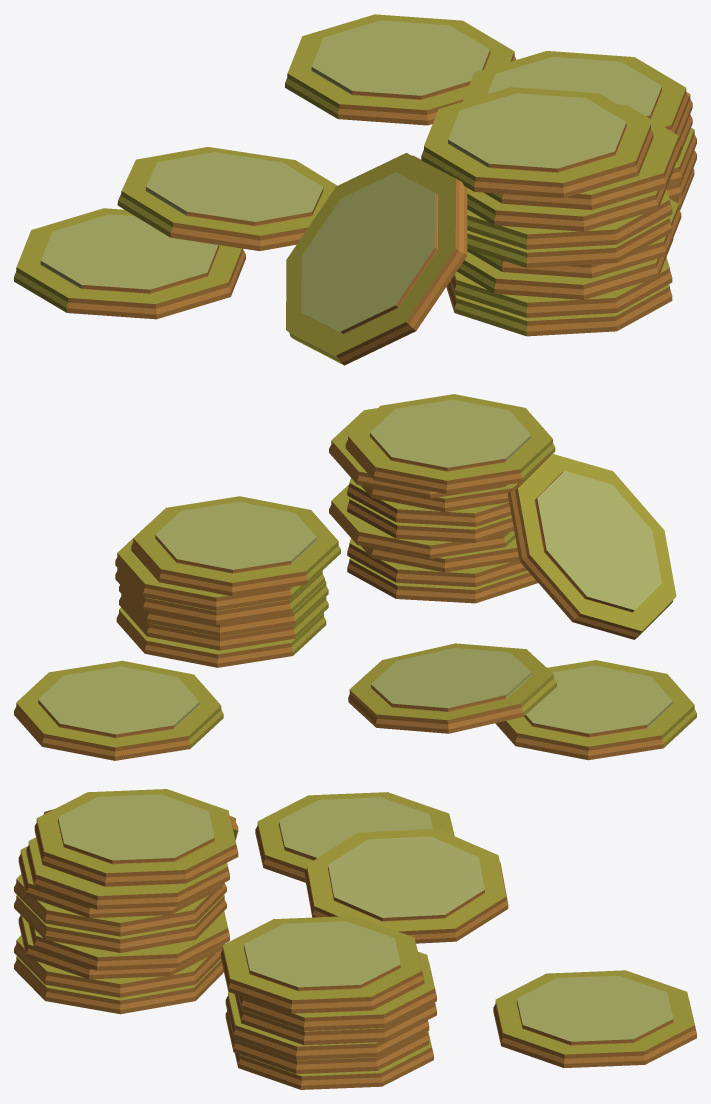
The model's file is coin.fbx.
3 renders of one model, top to bottom at view 1: azimuth 30°, elevation 25°; view 2: azimuth 150°, elevation 25°; view 3: azimuth 270°, elevation 25°, orthographic. The views are drawn at different scales.
Parts seen in each view (by area): view 1: coin_piles, coin_top.001, coin_top, coin_top.004, coin_top.005, coin_top.006, coin_top.003, Cylinder.004; view 2: coin_top.001, coin_piles, coin_top.003, coin_top.005, coin_top, coin_top.006, coin_top.004, Cylinder.001, Cylinder.006, Cylinder.005, Cylinder.002, Cylinder.004; view 3: coin_piles, coin_top.006, coin_top.003, coin_top, coin_top.005, coin_top.004, Cylinder.006, Cylinder.004, Cylinder.001, Cylinder.002, Cylinder.005.
Boxes of the visible parts, <box> form: coin_piles: <box>446,104,681,336</box>; coin_top.001: <box>286,153,467,365</box>; coin_top: <box>421,87,653,198</box>; coin_top.004: <box>14,208,245,319</box>; coin_top.005: <box>285,14,516,125</box>; coin_top.006: <box>117,147,337,251</box>; coin_top.003: <box>462,51,688,133</box>; Cylinder.004: <box>668,127,696,185</box>; coin_top.001: <box>507,454,676,639</box>; coin_piles: <box>329,408,537,603</box>; coin_top.003: <box>131,496,340,596</box>; coin_top.005: <box>14,660,223,760</box>; coin_top: <box>345,394,555,494</box>; coin_top.006: <box>348,643,557,733</box>; coin_top.004: <box>495,660,696,760</box>; Cylinder.001: <box>116,607,326,667</box>; Cylinder.006: <box>115,525,306,610</box>; Cylinder.005: <box>115,568,324,624</box>; Cylinder.002: <box>119,594,328,650</box>; Cylinder.004: <box>119,580,328,636</box>; coin_piles: <box>14,837,229,1014</box>; coin_top.006: <box>304,828,508,943</box>; coin_top.003: <box>220,916,424,1013</box>; coin_top: <box>34,789,238,886</box>; coin_top.005: <box>493,970,696,1067</box>; coin_top.004: <box>255,792,454,882</box>; Cylinder.006: <box>238,951,436,1031</box>; Cylinder.004: <box>225,992,429,1060</box>; Cylinder.001: <box>234,1031,433,1089</box>; Cylinder.002: <box>225,1011,429,1073</box>; Cylinder.005: <box>234,994,436,1045</box>.
Bounding box in the file's own units: 613 × 159 × 641.
